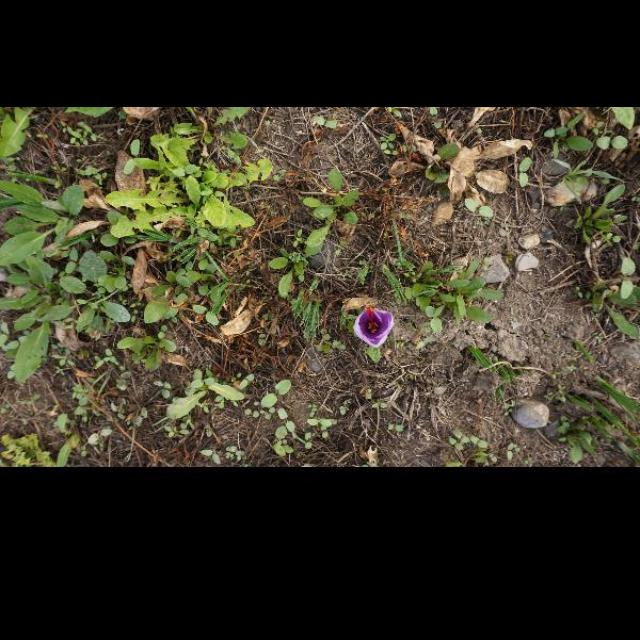flower: (352, 305, 396, 349)
